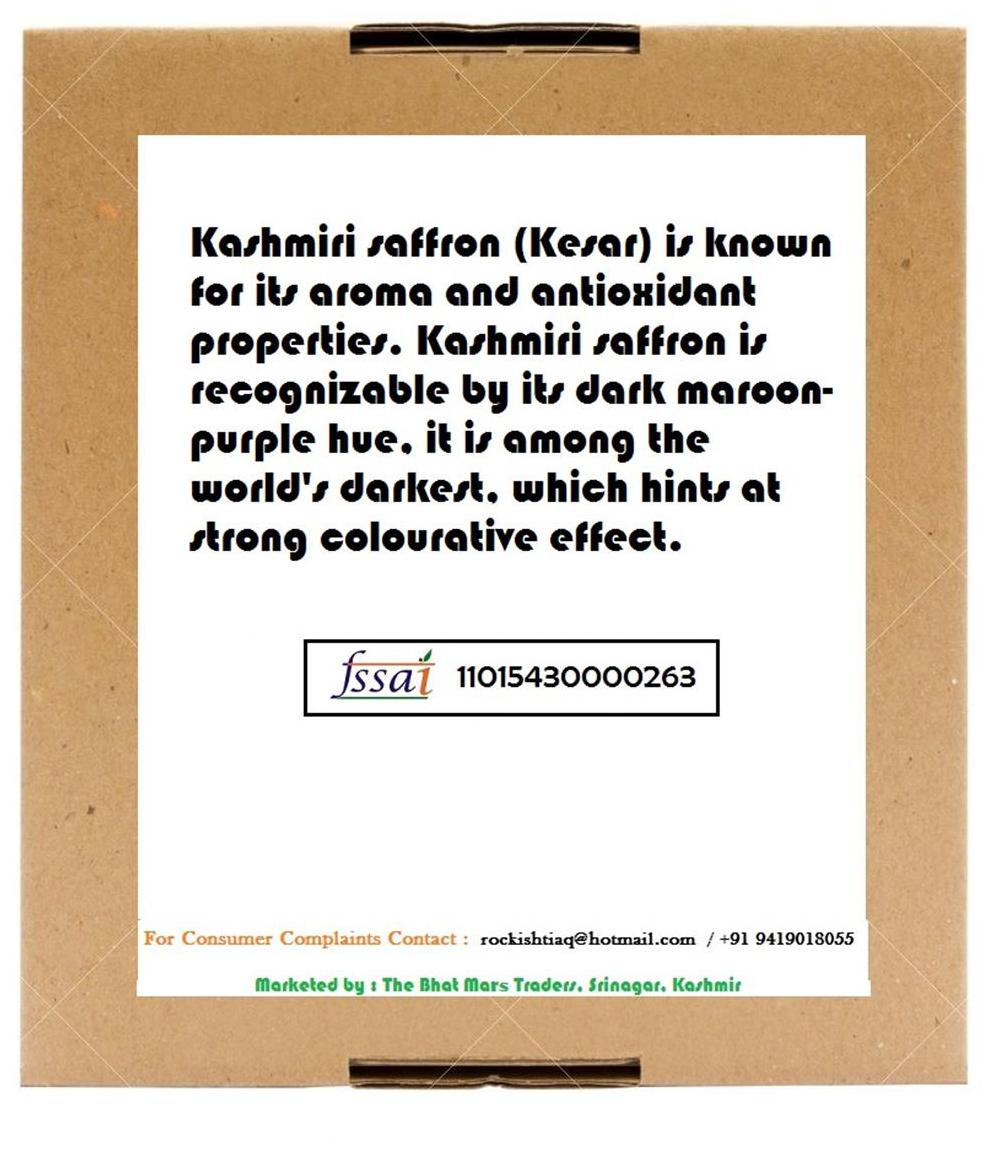fssai: (330, 650, 434, 700)
